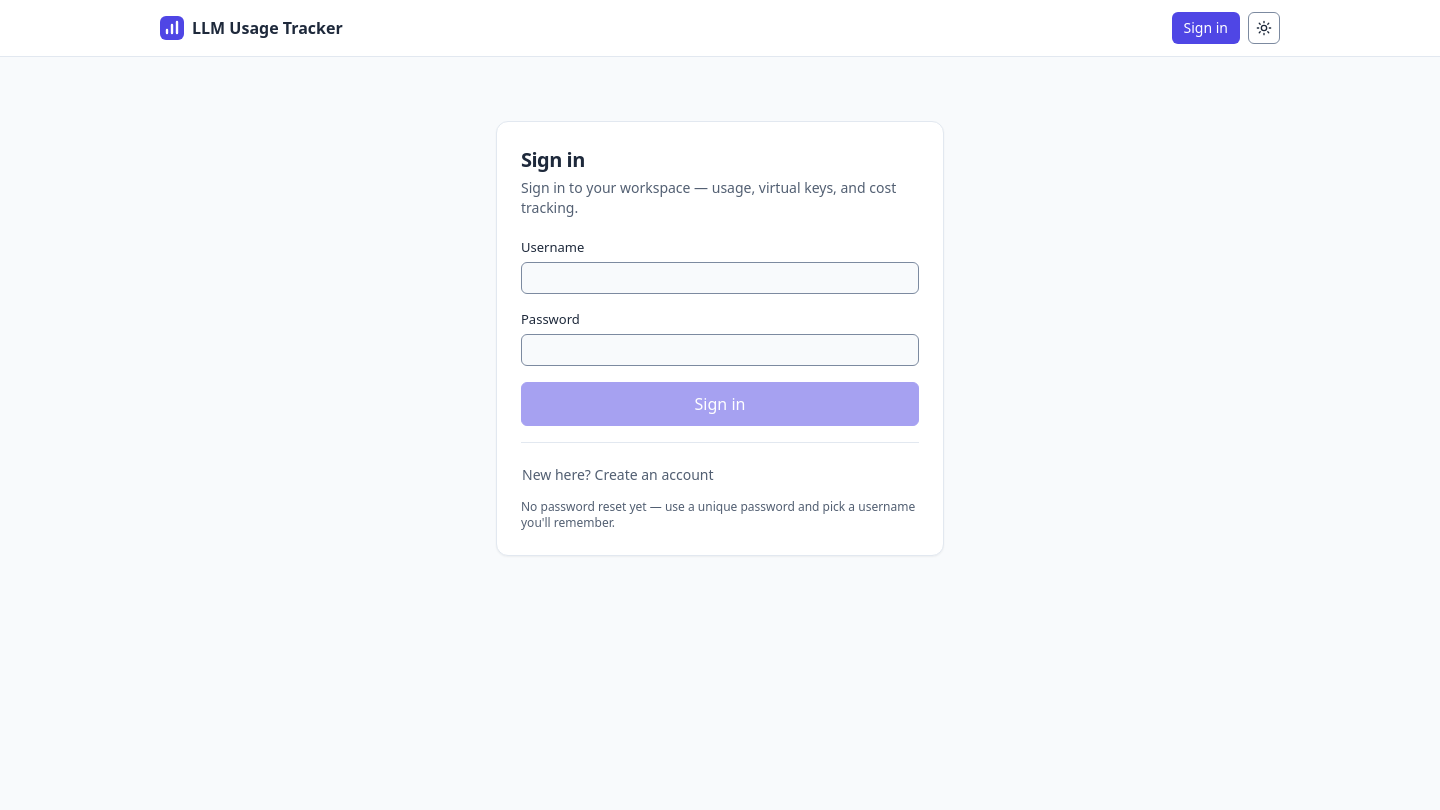
Test: an expired session, end to end › a wrong password on the login page is an ordinary error, never 'session expired'
Step 1. Type "alice" into the field labelled "Username" → (720, 278), box [521,262,919,294]
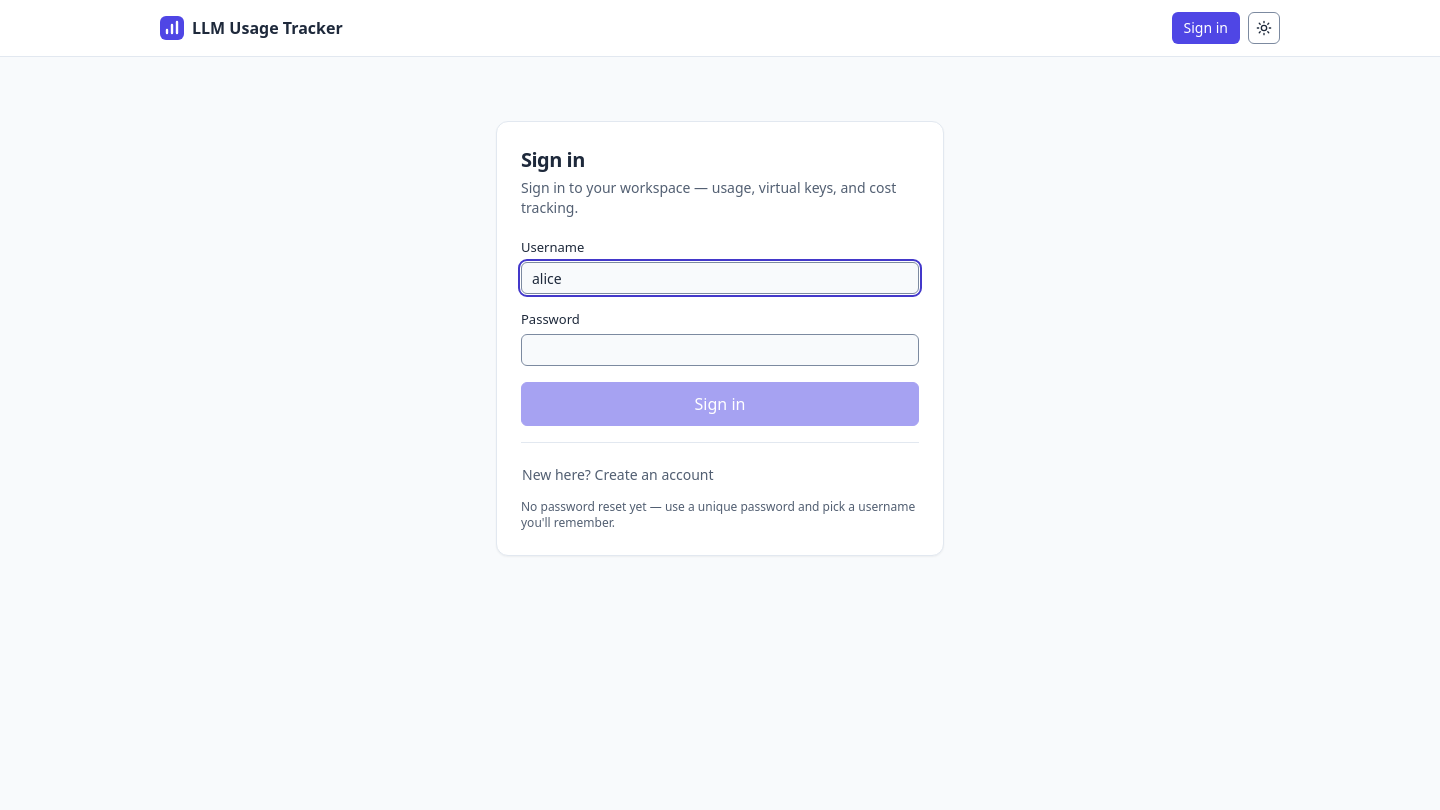
Step 2. Type "wrong-password-1" into the password field labelled "Password" → (720, 350), box [521,334,919,366]
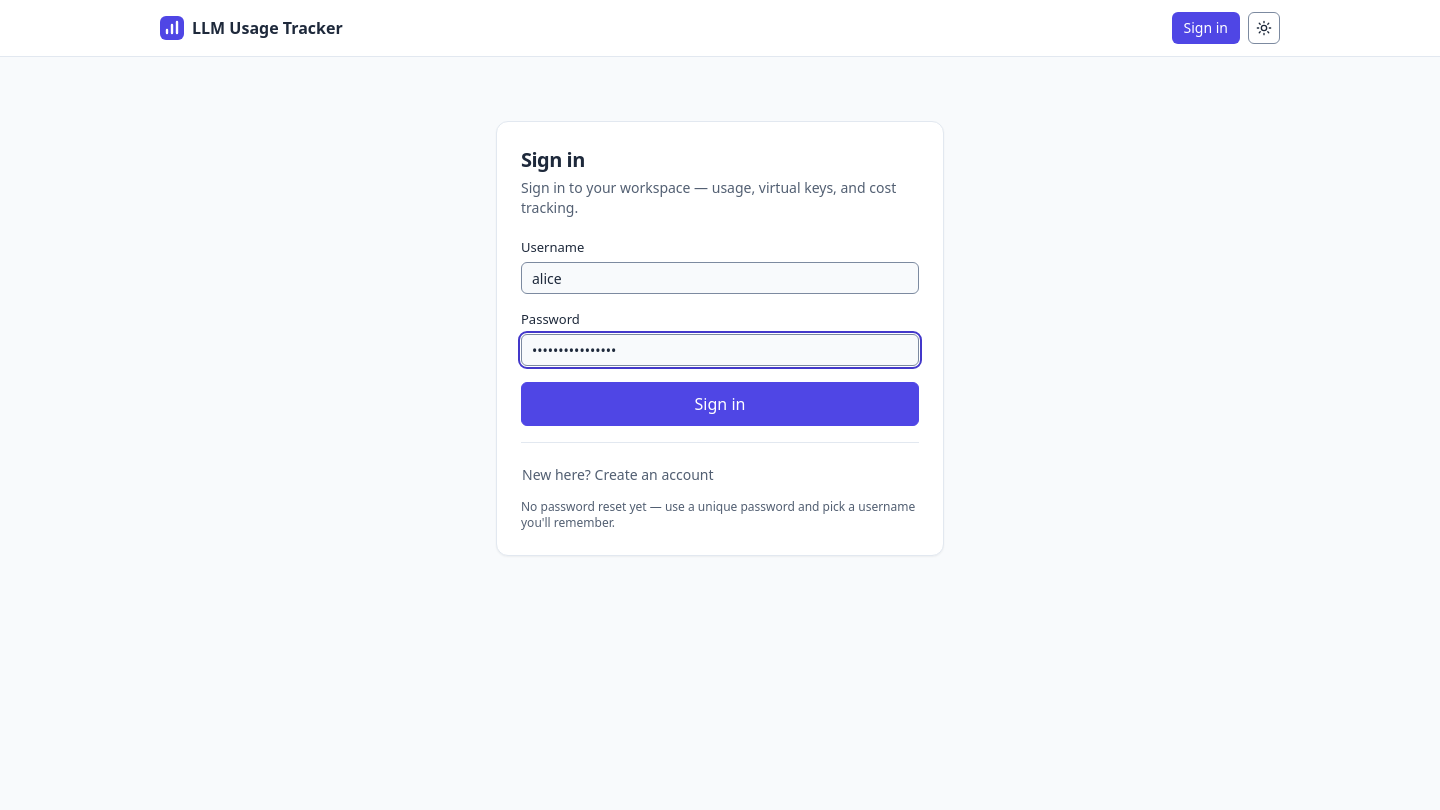
Step 3. Click the button "Sign in" → (720, 404), box [521,382,919,426]
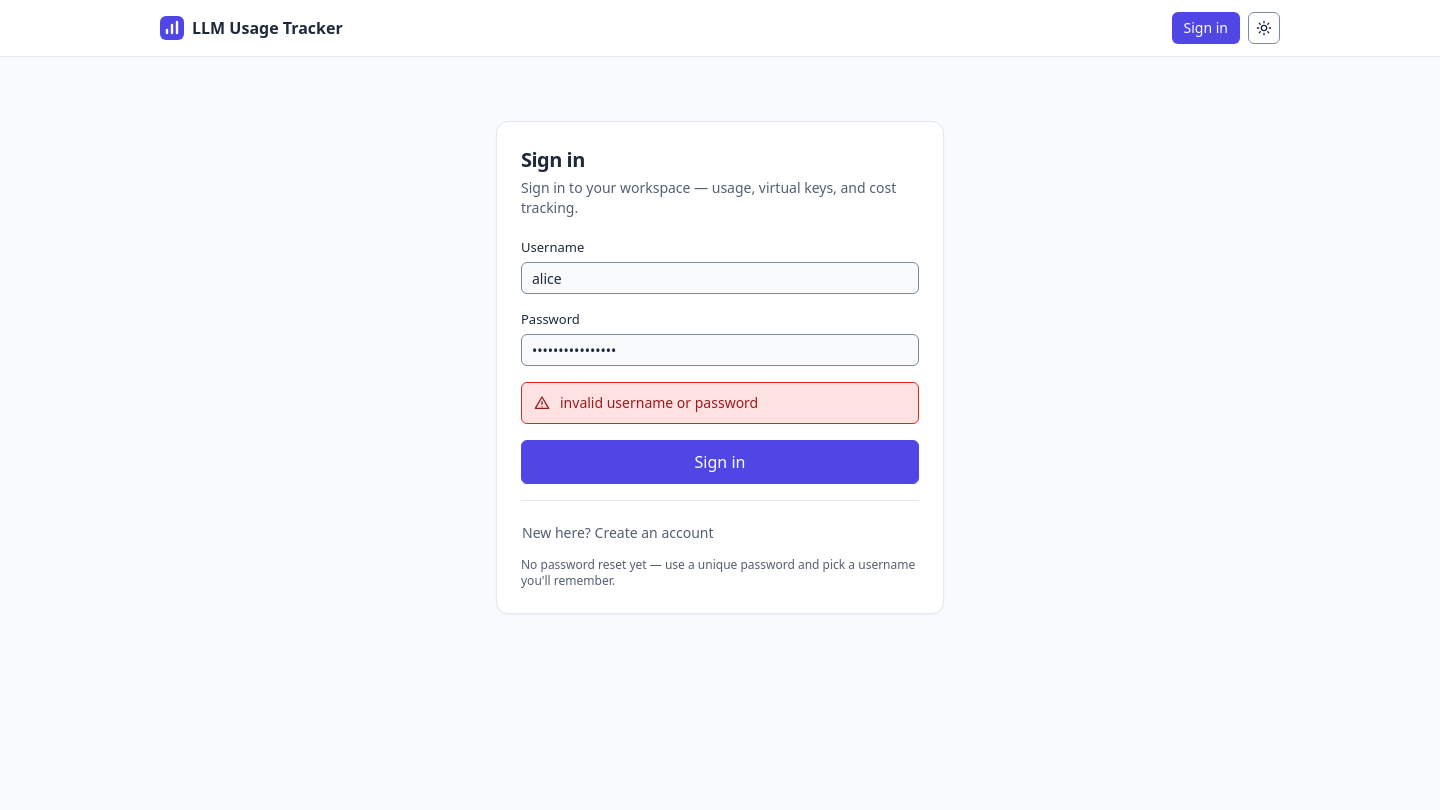
Result: the text "invalid username or password" is shown at [560,393,758,412]
